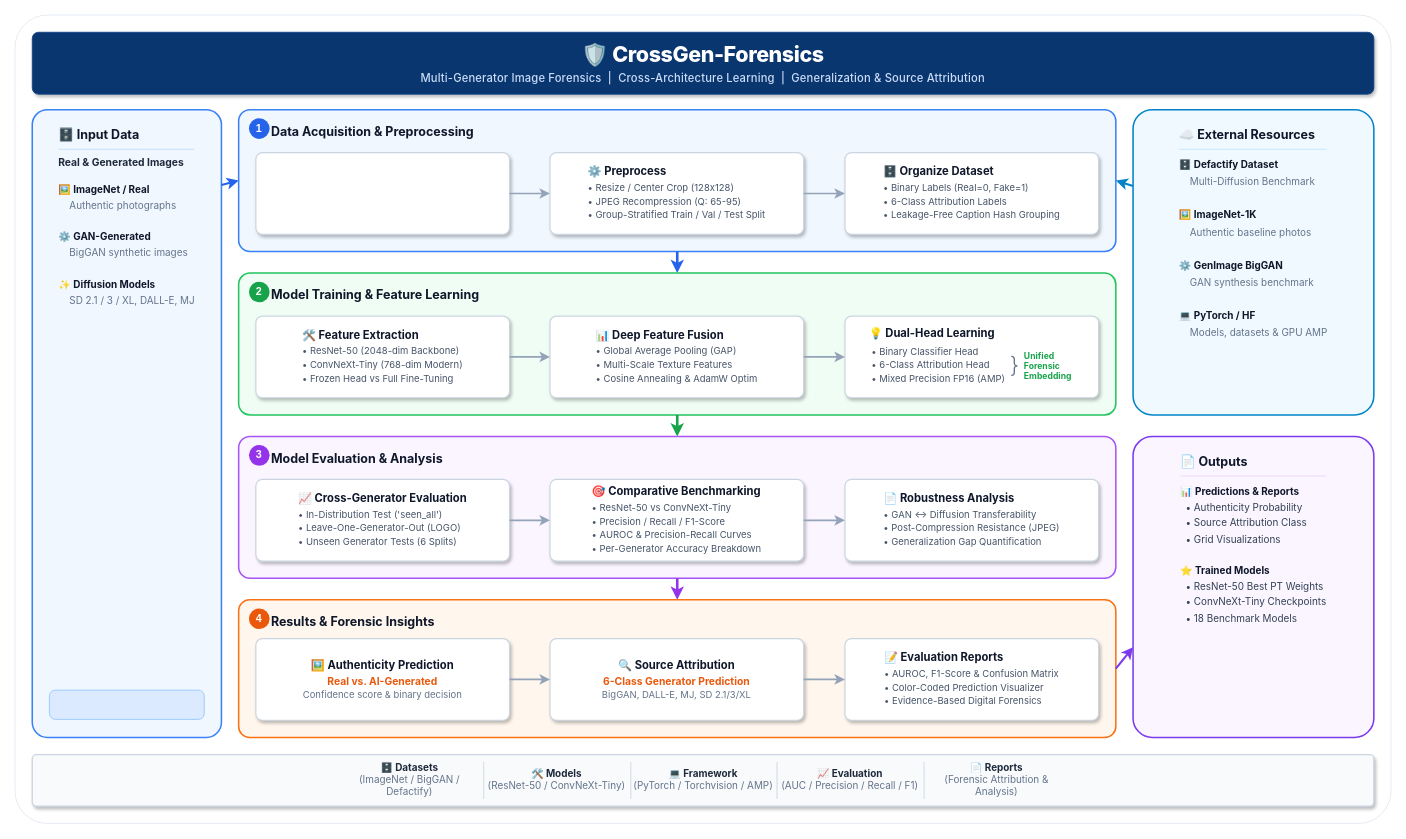
The diagram is 1406 pixels wide and 839 high, and some of its shapes have lost their labels. Here are the shapes that lost their labels. From the top down, the centre of each, then its label:
At (383,194): "🖼️ Load Images (ImageNet / BigGAN / Defactify)".
At (126,704): "Raw Streams →".
